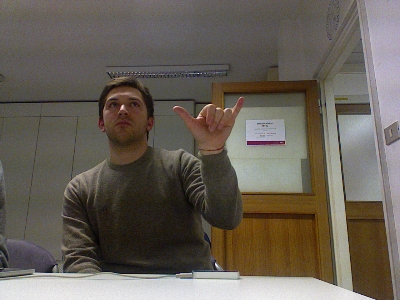六六六: (171, 95, 245, 148)
